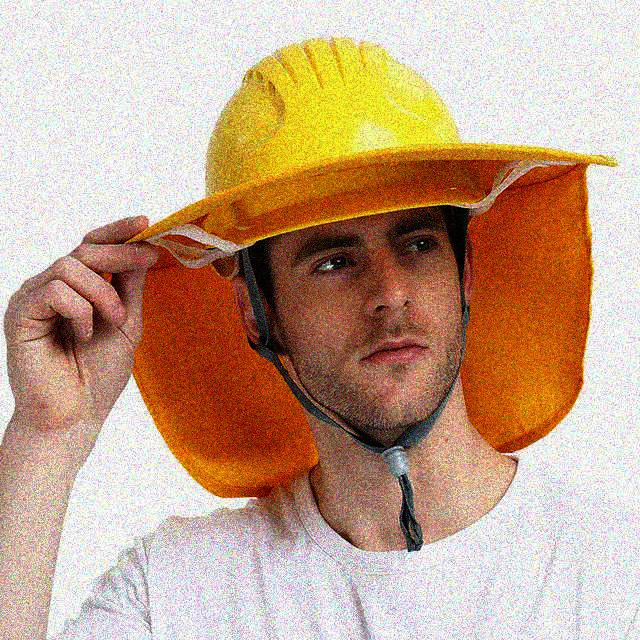helmet: (192, 30, 496, 434)
